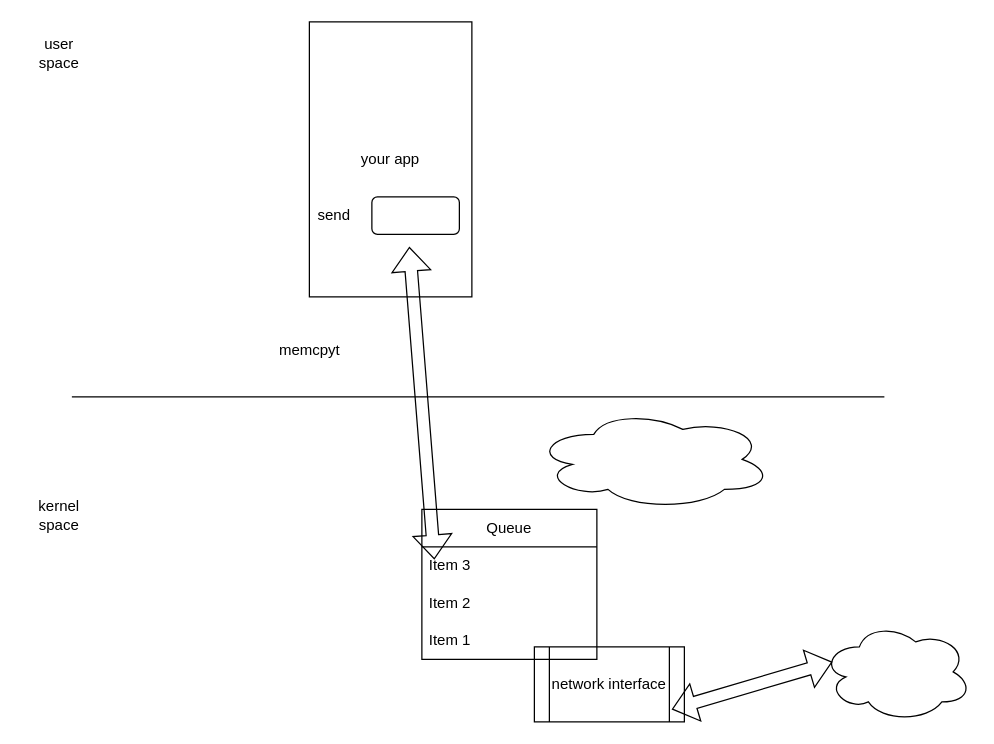
Image size: 994x744. Some labels were removed from this diagram. The shapes that lost their labels are listed below. From the top down, each one's centre as x and y in pixels, then its label:
At (x=415, y=215): "buffer".
At (x=652, y=458): "Zzzzzz".
